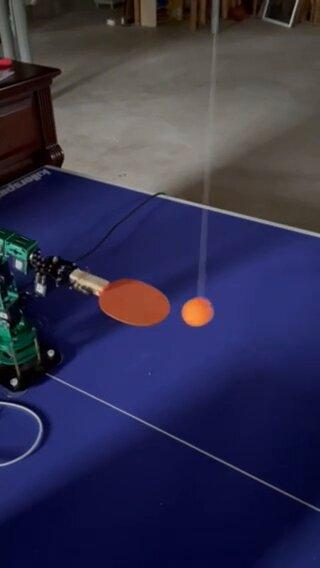oball: (181, 298, 212, 326)
